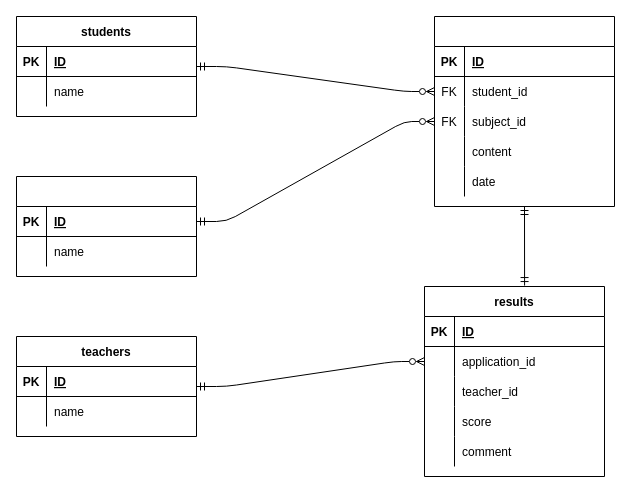
This 631x493 diagram has some shape labels left out. The box of each missing label's shape, as (x1, y1, x2, y2) in pixels:
applications: (434, 16, 614, 206)
subjects: (16, 176, 196, 276)
